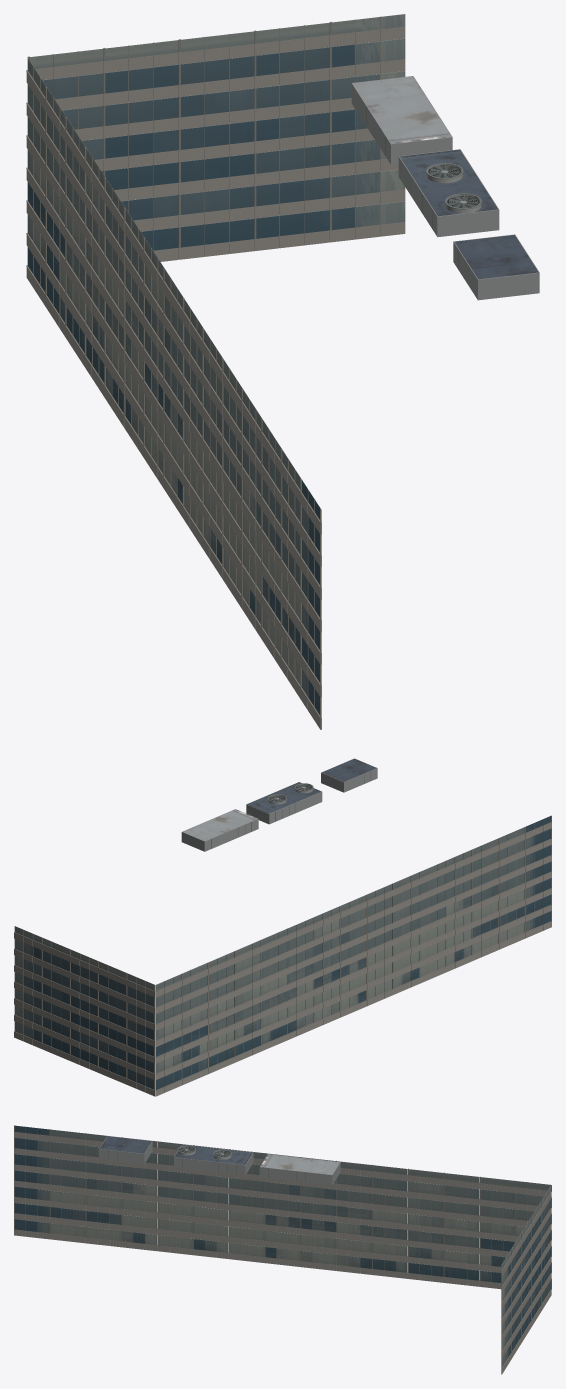
File: marunouchi-nichome.glb
3 renders of one model, top to bottom at view 1: azimuth 30°, elevation 25°; view 2: azimuth 150°, elevation 25°; view 3: azimuth 270°, elevation 25°, orthographic. The views are drawn at different scales.
Visible parts, largest first — view 1: Marunouchi 2-chome - Nakadori west, Marunouchi 2-chome - cross street north, Marunouchi 2-chome - plant housings, Marunouchi 2-chome - surveyed circular rooftop units; view 2: Marunouchi 2-chome - Nakadori west, Marunouchi 2-chome - cross street north, Marunouchi 2-chome - plant housings; view 3: Marunouchi 2-chome - Nakadori west, Marunouchi 2-chome - cross street north, Marunouchi 2-chome - plant housings, Marunouchi 2-chome - surveyed circular rooftop units.
Boxes of the visible parts, bbox=[...] form: Marunouchi 2-chome - Nakadori west: bbox=[26, 58, 321, 729]; Marunouchi 2-chome - cross street north: bbox=[27, 14, 405, 261]; Marunouchi 2-chome - plant housings: bbox=[351, 76, 539, 300]; Marunouchi 2-chome - surveyed circular rooftop units: bbox=[426, 163, 481, 213]; Marunouchi 2-chome - Nakadori west: bbox=[155, 815, 551, 1096]; Marunouchi 2-chome - cross street north: bbox=[14, 926, 155, 1096]; Marunouchi 2-chome - plant housings: bbox=[181, 758, 377, 851]; Marunouchi 2-chome - Nakadori west: bbox=[14, 1125, 550, 1289]; Marunouchi 2-chome - cross street north: bbox=[501, 1185, 551, 1374]; Marunouchi 2-chome - plant housings: bbox=[99, 1136, 340, 1185]; Marunouchi 2-chome - surveyed circular rooftop units: bbox=[177, 1145, 231, 1159].
Bounding box in the file's own units: 59.84 × 32.5 × 97.38.
Materials: 11 (4 with a texture image).
